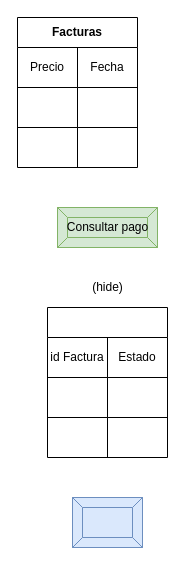
Some shapes in this 185 by 565 pixel diagram are drawn without their labels. The box of each missing label's shape, as (x1, y1, x2, y2) in pixels:
Pago: (46, 306, 168, 458)
Volver: (72, 496, 142, 548)
